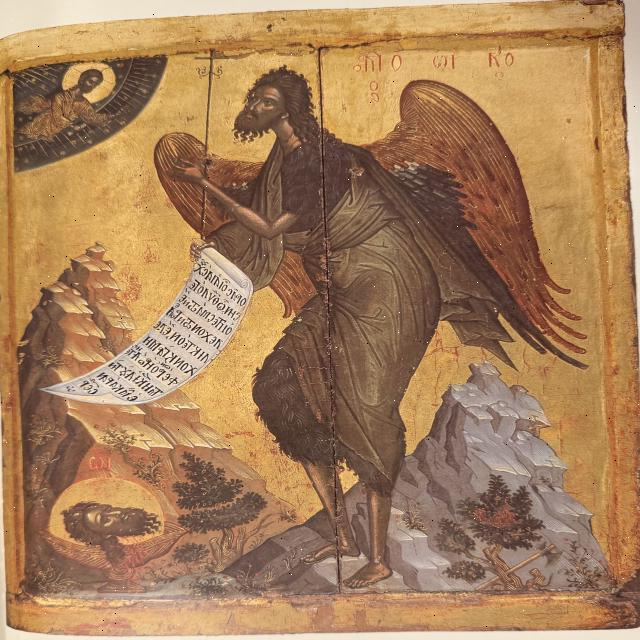angel: (158, 38, 578, 572)
aura: (60, 61, 118, 105)
christ_pantocrator: (13, 50, 173, 170)
scepter: (178, 47, 238, 263)
scroll: (37, 235, 275, 411)
wing: (358, 77, 605, 370), (150, 130, 318, 312)
